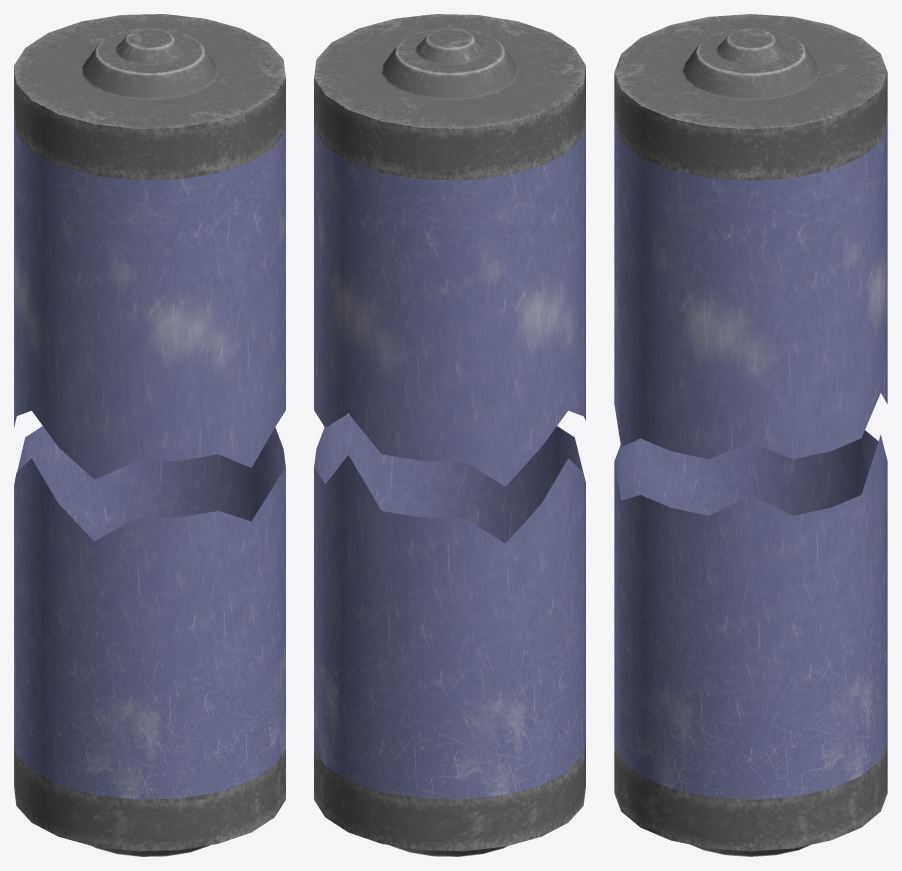
File: cell broken.fbx
3 renders of one model, left to right at view 1: azimuth 30°, elevation 25°; view 2: azimuth 150°, elevation 25°; view 3: azimuth 270°, elevation 25°, orthographic.
Parts seen in each view (by area): view 1: polySurface1, polySurface2, Power_cell:pCylinder2, Power_cell:pCylinder1; view 2: polySurface1, polySurface2, Power_cell:pCylinder2, Power_cell:pCylinder1; view 3: polySurface1, polySurface2, Power_cell:pCylinder2, Power_cell:pCylinder1.
Part boxes in pixels (x1,y1,x2,y2): polySurface1: (14,426,285,799); polySurface2: (14,117,285,479); Power_cell:pCylinder2: (14,14,285,180); Power_cell:pCylinder1: (14,737,285,856); polySurface1: (314,414,585,799); polySurface2: (314,117,585,486); Power_cell:pCylinder2: (314,14,585,180); Power_cell:pCylinder1: (314,737,585,856); polySurface1: (614,430,887,799); polySurface2: (614,123,887,459); Power_cell:pCylinder2: (614,14,887,180); Power_cell:pCylinder1: (614,742,887,856).
Size of the model in its own units: 24 by 76.08 by 24.
